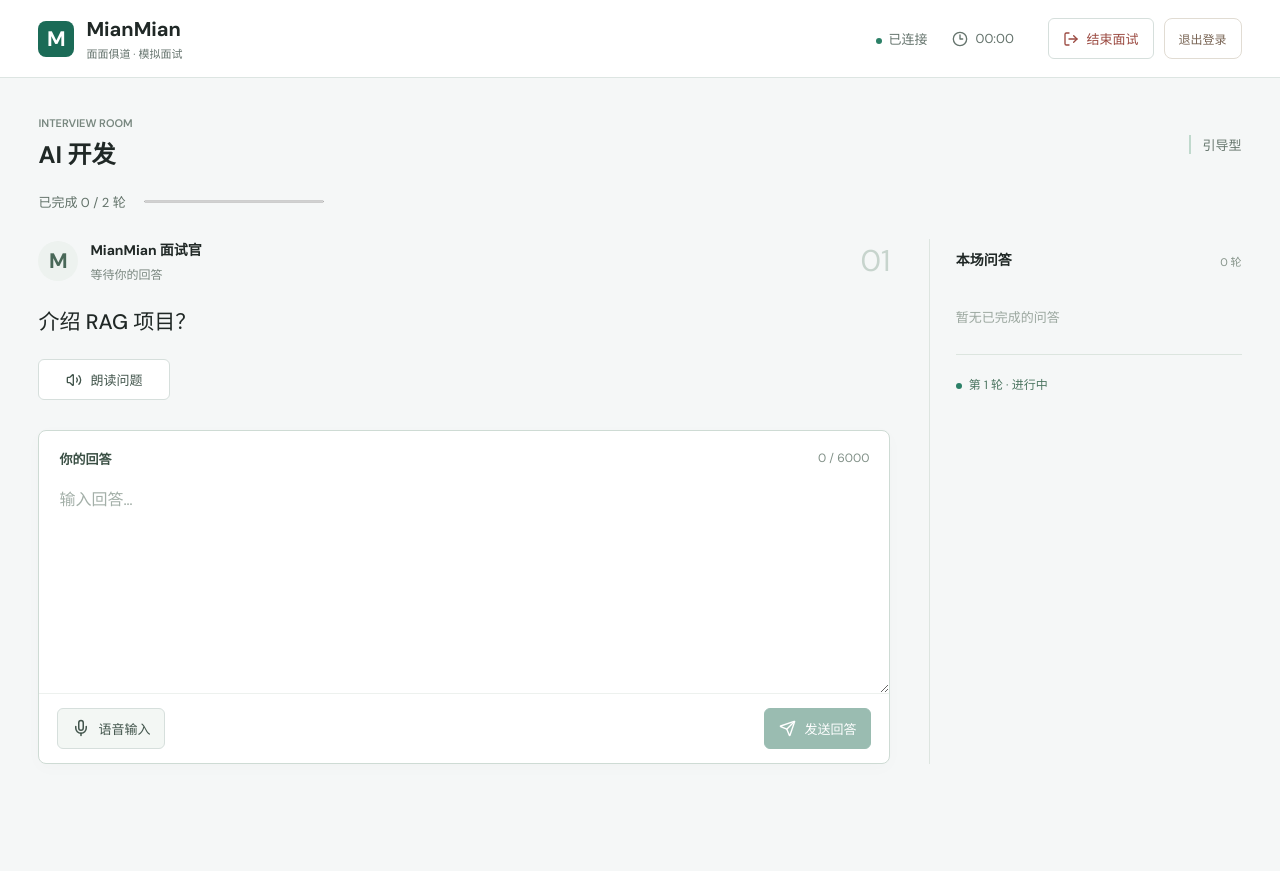
Interview room › retains recorded audio on ASR failure and retries without re-recording
Click the button "语音输入".
click(111, 728)  # box 57,708 -> 165,749
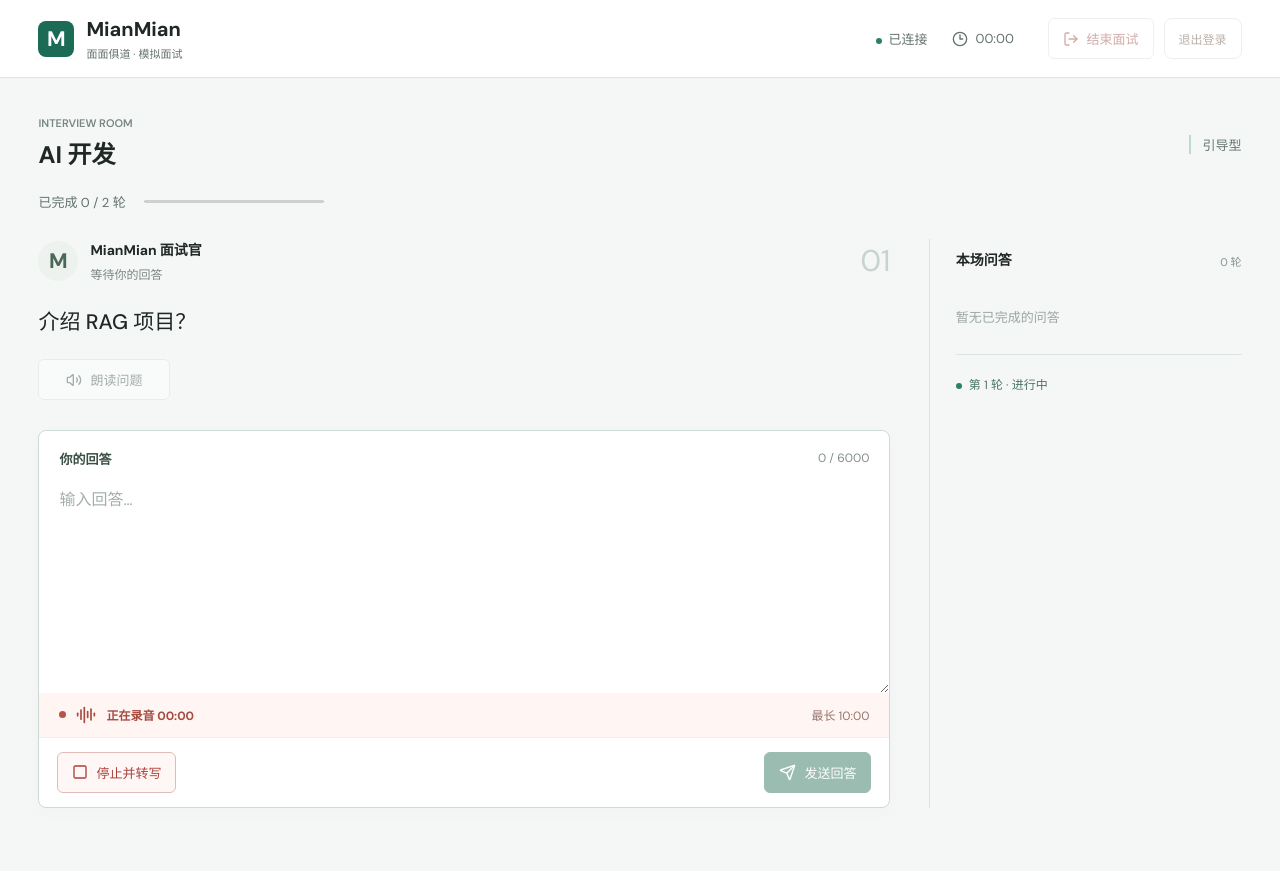
Click the button "停止并转写".
click(117, 772)  # box 57,752 -> 176,793
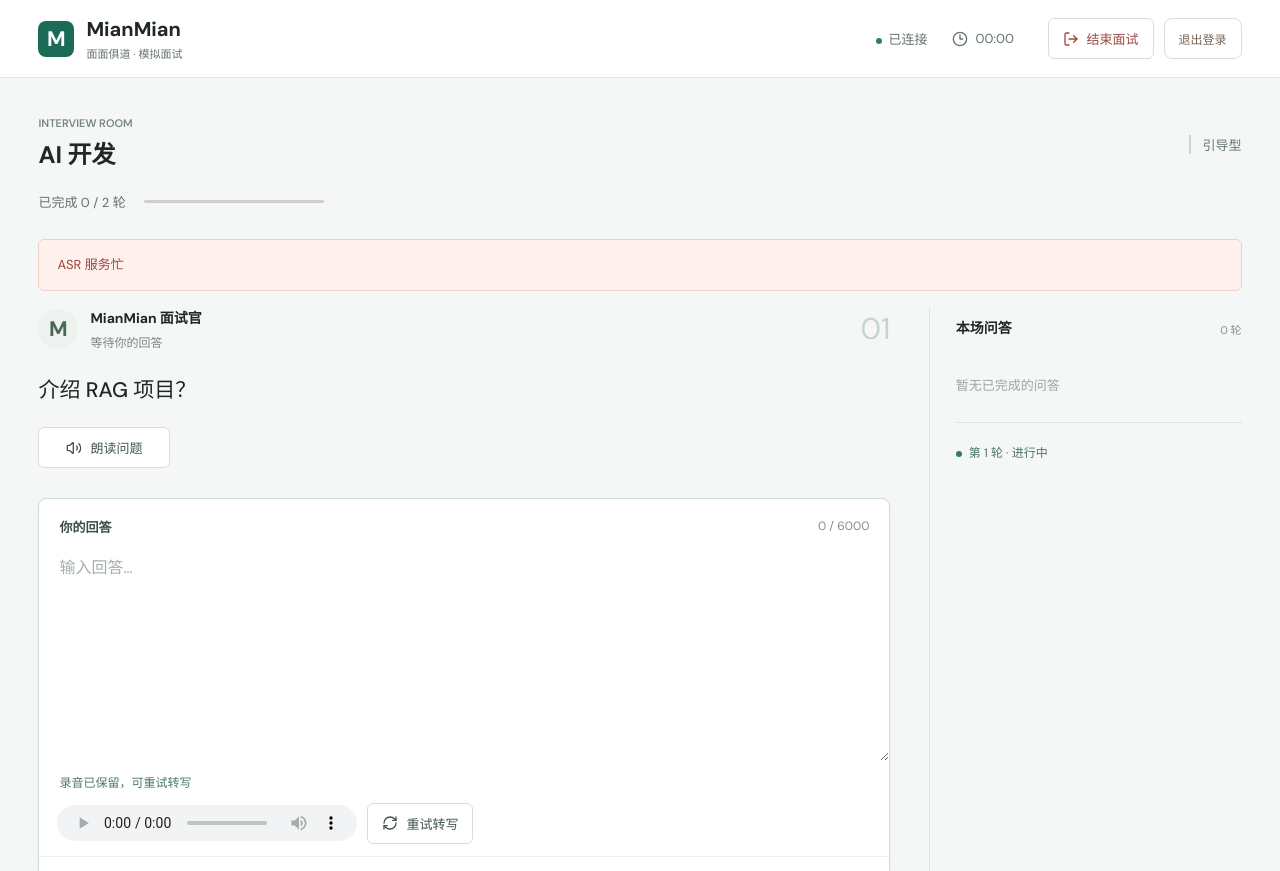
Now the text "录音已保留" is shown, box 59,775 -> 191,791
Now the button "重试转写" is shown
Click the button "重试转写".
click(420, 823)  # box 367,803 -> 473,844
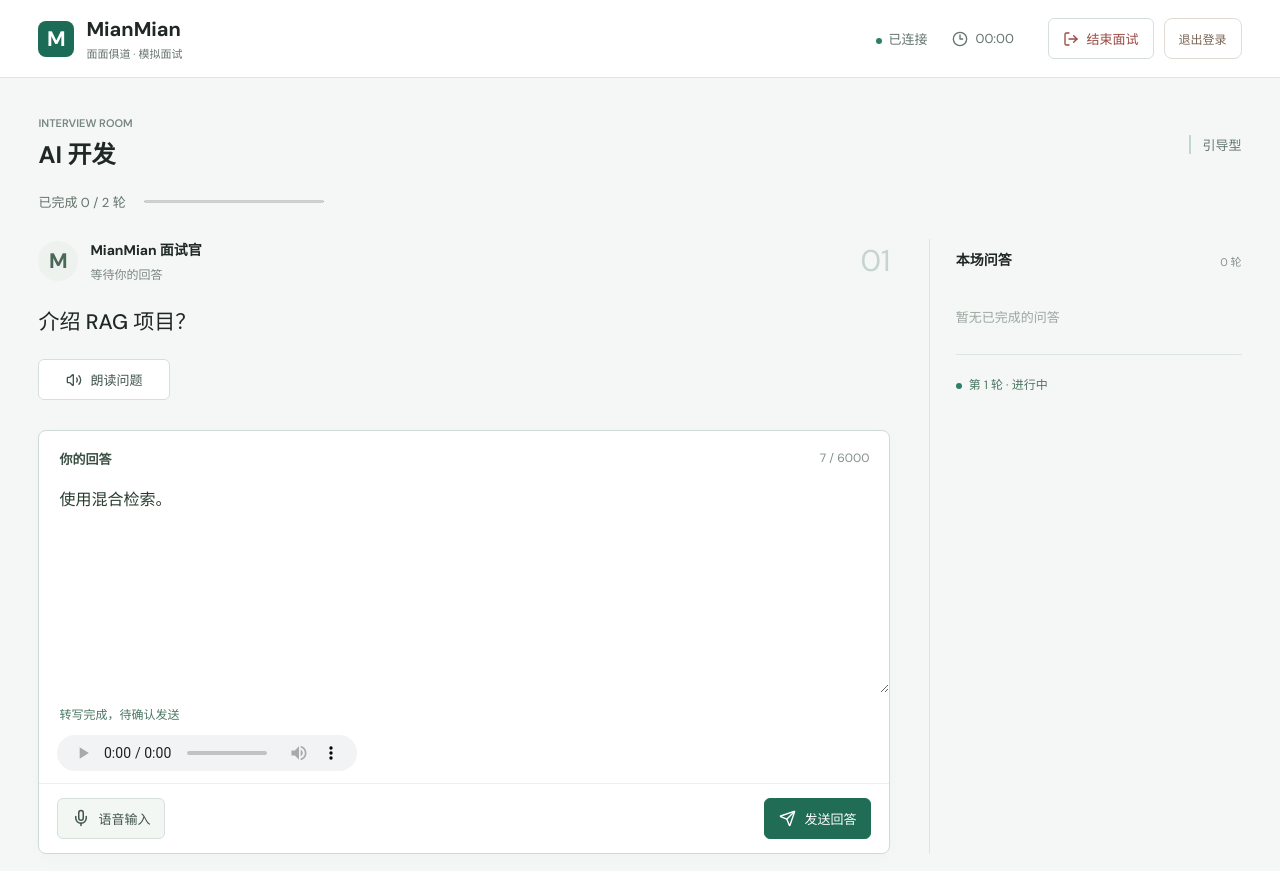
Now the text box labelled "你的回答" holds "使用混合检索。", box 39,468 -> 889,693
